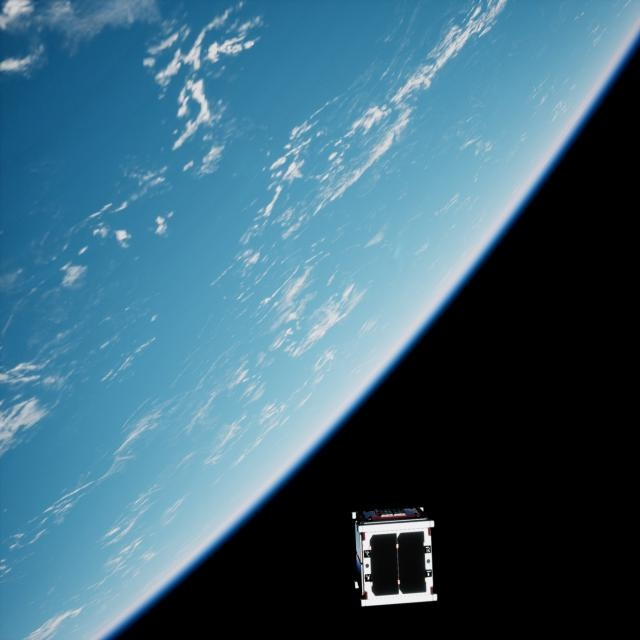medium_debris: (351, 501, 439, 607)
